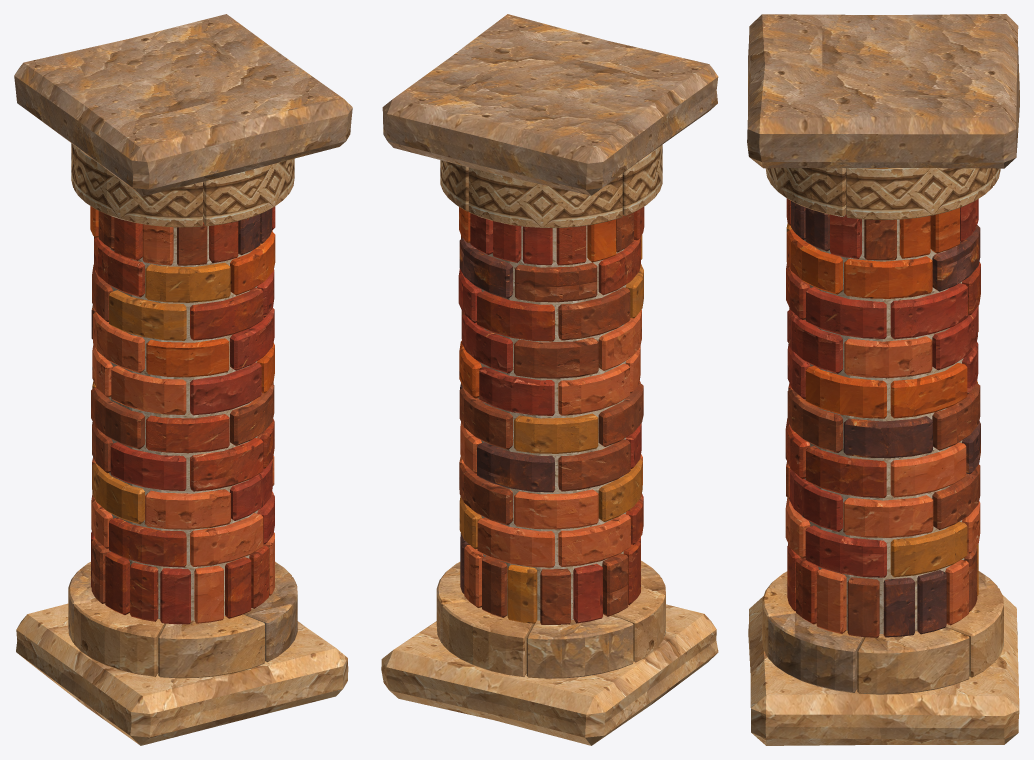
File: column__clay_brick.glb
The picture shows the model from 3 angles, left to right: view 1: azimuth 30°, elevation 25°; view 2: azimuth 150°, elevation 25°; view 3: azimuth 270°, elevation 25°; orthographic projection. The views are drawn at different scales.
Visible parts, largest first — view 1: model; view 2: model; view 3: model.
Part boxes in pixels (x1=…): model: x1=14, y1=14, x2=352, y2=745; model: x1=381, y1=14, x2=718, y2=745; model: x1=747, y1=14, x2=1019, y2=745.
Bounding box in the file's own units: 0.7736 × 1.98 × 0.7787.
Materials: 14 (14 with a texture image).
